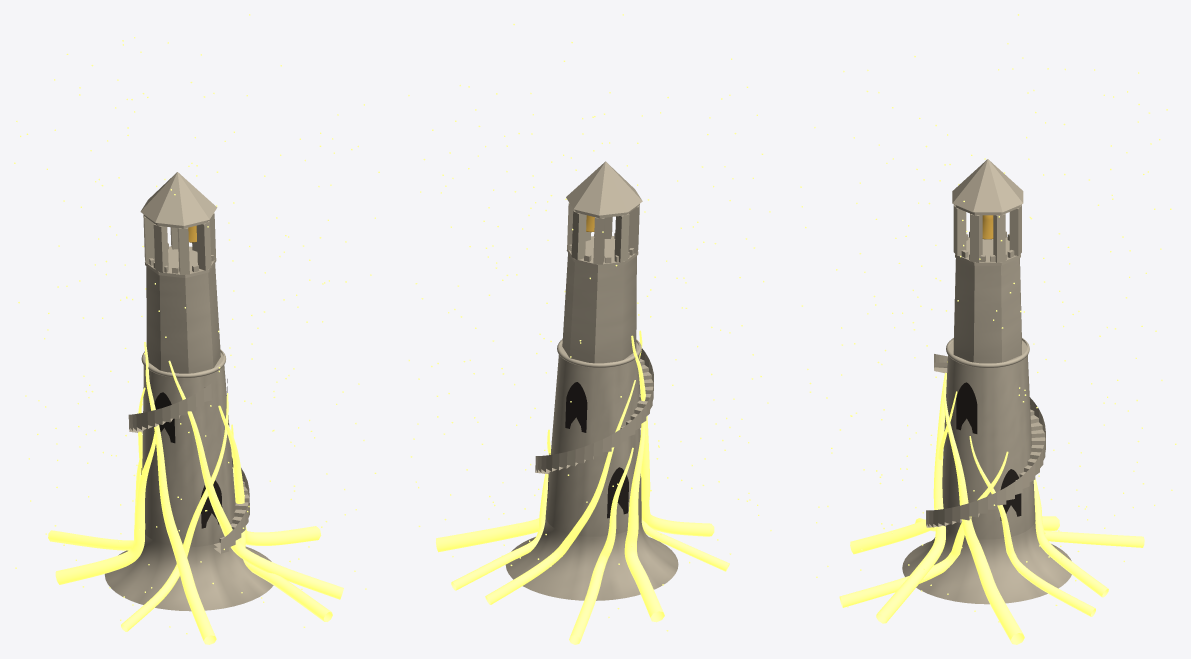
The model's file is tower-rootbound-63.glb.
3 renders of one model, left to right at view 1: azimuth 30°, elevation 25°; view 2: azimuth 150°, elevation 25°; view 3: azimuth 270°, elevation 25°, orthographic.
Visible parts, largest first — view 1: tier (×2), root (×7), foot_roots, crown_belfry_pier, crown_belfry_roof, stair, opening, crown_belfry; view 2: tier (×2), root (×7), foot_roots, crown_belfry_pier, stair, crown_belfry_roof, opening, crown_belfry; view 3: tier (×2), root (×7), foot_roots, stair, crown_belfry_roof, crown_belfry_pier, opening, crown_belfry.
Part boxes in pixels (x1=…): tier (×2): x1=142, y1=263, x2=235, y2=546; root (×7): x1=48, y1=342, x2=343, y2=644; foot_roots: x1=104, y1=534, x2=273, y2=611; crown_belfry_pier: x1=143, y1=213, x2=216, y2=274; crown_belfry_roof: x1=140, y1=172, x2=217, y2=225; stair: x1=128, y1=383, x2=249, y2=553; opening: x1=141, y1=379, x2=228, y2=528; crown_belfry: x1=145, y1=246, x2=216, y2=277; tier (×2): x1=545, y1=253, x2=641, y2=536; root (×7): x1=436, y1=335, x2=729, y2=644; foot_roots: x1=505, y1=517, x2=678, y2=600; crown_belfry_pier: x1=567, y1=202, x2=639, y2=264; stair: x1=535, y1=348, x2=653, y2=473; crown_belfry_roof: x1=566, y1=161, x2=642, y2=215; opening: x1=547, y1=382, x2=640, y2=518; crown_belfry: x1=566, y1=236, x2=638, y2=267; tier (×2): x1=942, y1=258, x2=1035, y2=539; root (×7): x1=839, y1=361, x2=1144, y2=644; foot_roots: x1=902, y1=520, x2=1071, y2=604; stair: x1=926, y1=354, x2=1045, y2=527; crown_belfry_roof: x1=952, y1=159, x2=1023, y2=212; crown_belfry_pier: x1=953, y1=204, x2=1021, y2=262; opening: x1=956, y1=382, x2=1021, y2=520; crown_belfry: x1=955, y1=237, x2=1020, y2=265.
Size of the model in its own units: 27.99 by 41.06 by 28.48.
